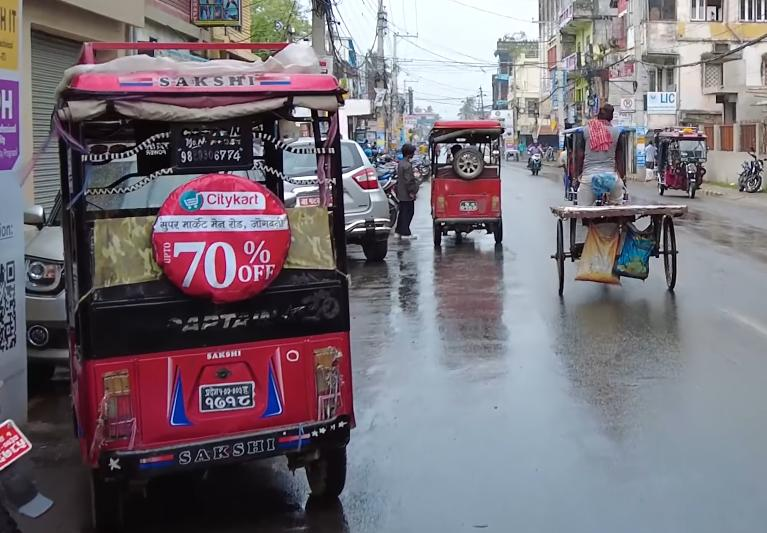bike: (735, 150, 764, 194), (528, 146, 546, 178)
e-rickshaw: (36, 31, 361, 514), (425, 114, 515, 246), (645, 128, 715, 201)
